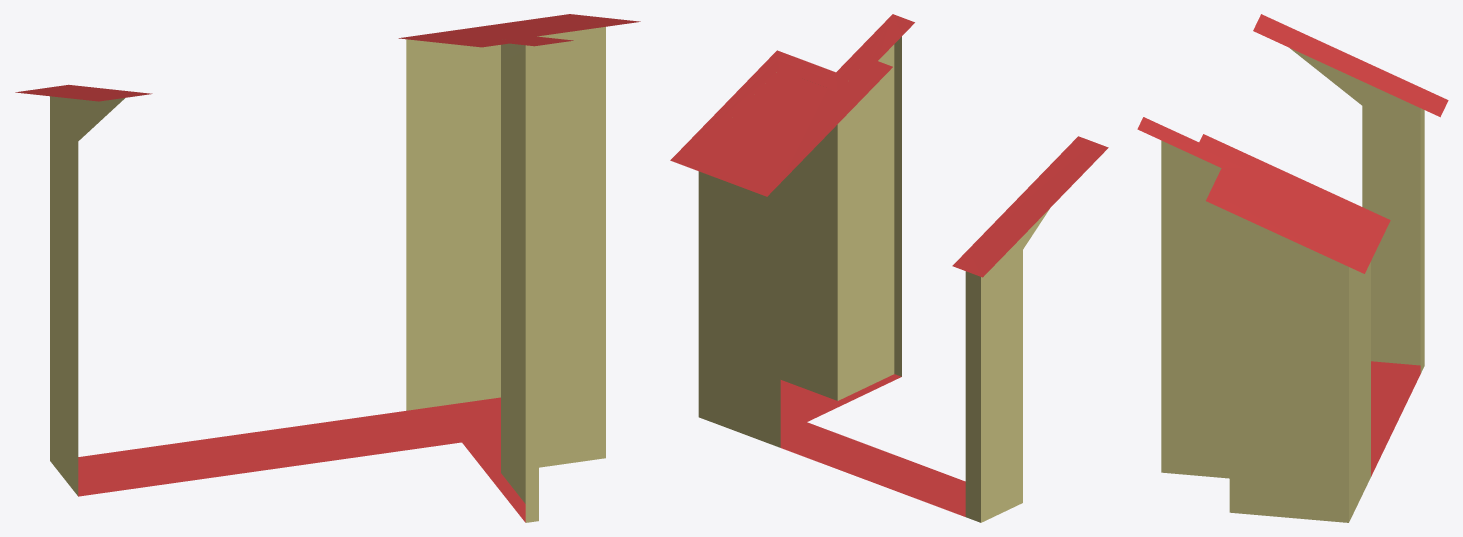
3 renders of one model, left to right at view 1: azimuth 30°, elevation 25°; view 2: azimuth 150°, elevation 25°; view 3: azimuth 270°, elevation 25°, orthographic. The views are drawn at different scales.
Bounding box in the file's own units: 11.08 × 7.67 × 9.51.
